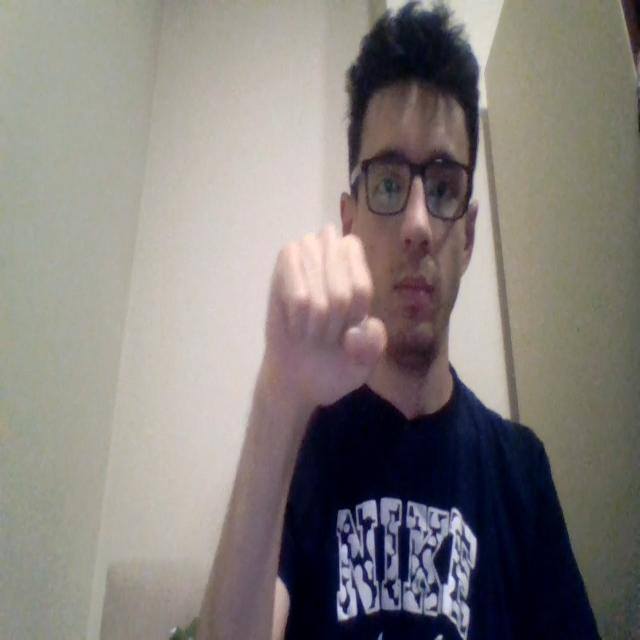yes: (264, 221, 388, 408)
